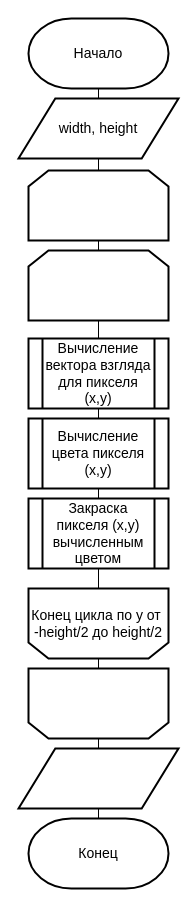
Some shapes in this 196 by 906 pixel diagram are drawn without their labels. Each missing label, with the box of its shape:
Изображение: (17, 747, 179, 809)
Конец цикла по x от - width/2 до width/2: (27, 667, 169, 739)
Цикл по x от - width/2 до width/2: (27, 169, 169, 241)
Цикл по y от -height/2 до height/2: (27, 249, 169, 321)
